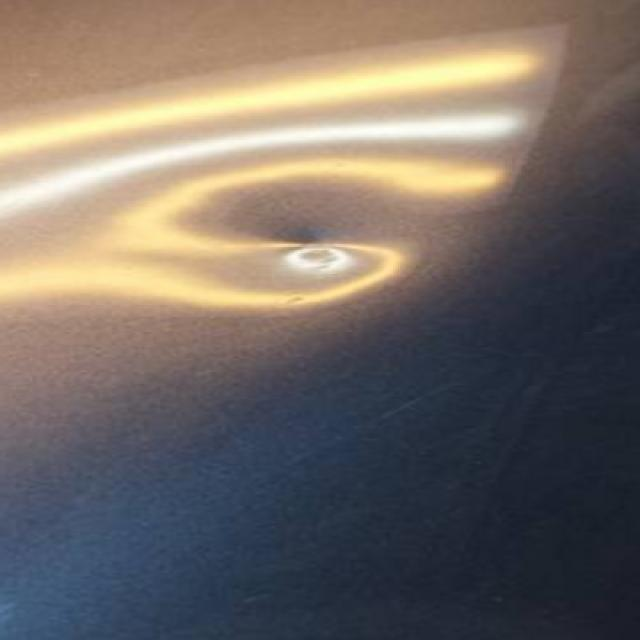dents: (200, 177, 383, 285)
